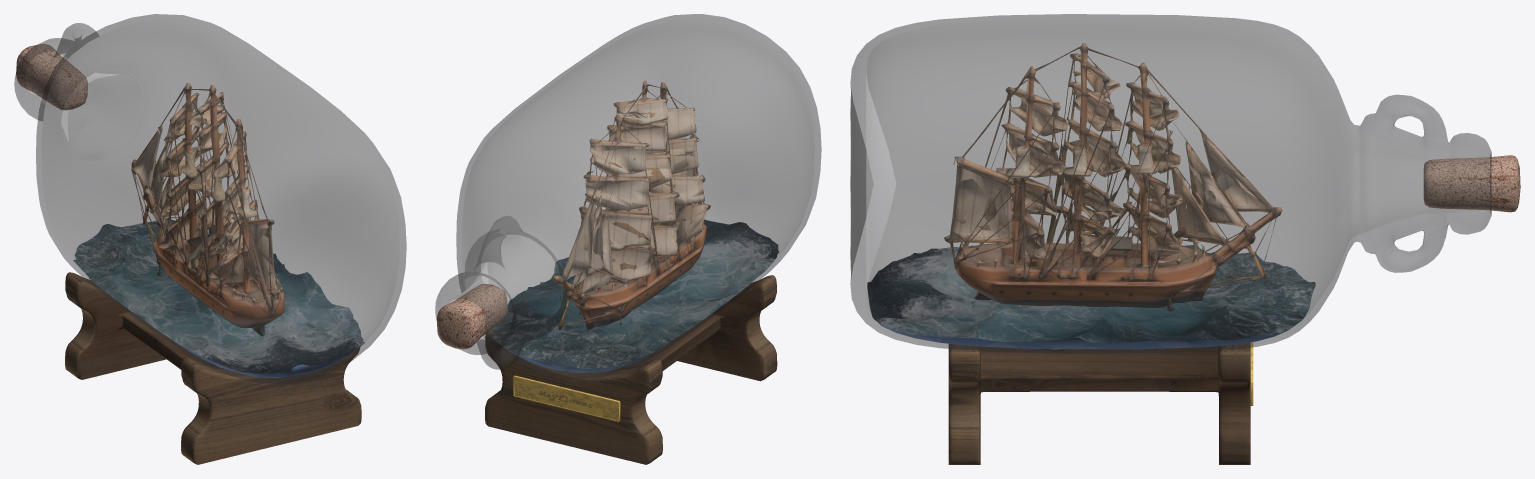
The model's file is ship_in_a_bottle.glb.
3 views of the same model, side by side, from view 1: azimuth 30°, elevation 25°; view 2: azimuth 150°, elevation 25°; view 3: azimuth 270°, elevation 25° (orthographic). The views are drawn at different scales.
Parts seen in each view (by area): view 1: bottle_export_bottleexport_baked_material_0, boat_export_veliero001_baked_material_0, support_export_supportexport_baked_material.001_0, sea_mer_0, cap_export_capexport_baked_material_0, sea_fond_0, bottle_export.001_bottle_inside_0; view 2: bottle_export_bottleexport_baked_material_0, boat_export_veliero001_baked_material_0, support_export_supportexport_baked_material.001_0, sea_mer_0, cap_export_capexport_baked_material_0, plaque_export_plaqueexport_baked_material_0, sea_fond_0; view 3: bottle_export_bottleexport_baked_material_0, boat_export_veliero001_baked_material_0, sea_mer_0, support_export_supportexport_baked_material.001_0, cap_export_capexport_baked_material_0, bottle_export.001_bottle_inside_0, sea_fond_0.
Part boxes in pixels (x1,y1,x2,y2): bottle_export_bottleexport_baked_material_0: [14, 14, 406, 384]; boat_export_veliero001_baked_material_0: [131, 83, 284, 336]; support_export_supportexport_baked_material.001_0: [65, 272, 361, 464]; sea_mer_0: [73, 219, 364, 373]; cap_export_capexport_baked_material_0: [16, 44, 87, 110]; sea_fond_0: [75, 223, 364, 377]; bottle_export.001_bottle_inside_0: [35, 72, 139, 142]; bottle_export_bottleexport_baked_material_0: [435, 14, 821, 378]; boat_export_veliero001_baked_material_0: [553, 80, 710, 330]; support_export_supportexport_baked_material.001_0: [485, 275, 777, 464]; sea_mer_0: [492, 220, 778, 368]; cap_export_capexport_baked_material_0: [436, 283, 507, 349]; plaque_export_plaqueexport_baked_material_0: [513, 375, 620, 422]; sea_fond_0: [508, 219, 758, 372]; bottle_export_bottleexport_baked_material_0: [850, 14, 1491, 353]; boat_export_veliero001_baked_material_0: [944, 43, 1282, 311]; sea_mer_0: [867, 243, 1315, 343]; support_export_supportexport_baked_material.001_0: [948, 342, 1250, 464]; cap_export_capexport_baked_material_0: [1423, 155, 1520, 212]; bottle_export.001_bottle_inside_0: [867, 78, 1351, 285]; sea_fond_0: [869, 243, 1310, 349].
Size of the model in its own units: 1.39 by 2.14 by 3.35.
Materials: 8 (5 with a texture image).
